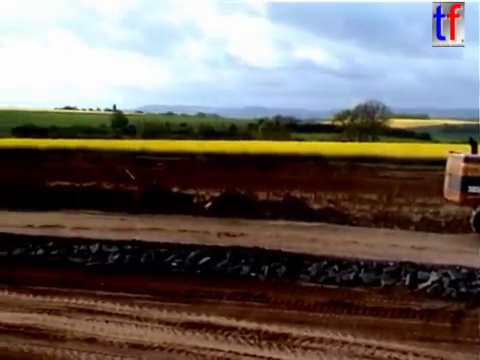excavator: (439, 134, 480, 238)
